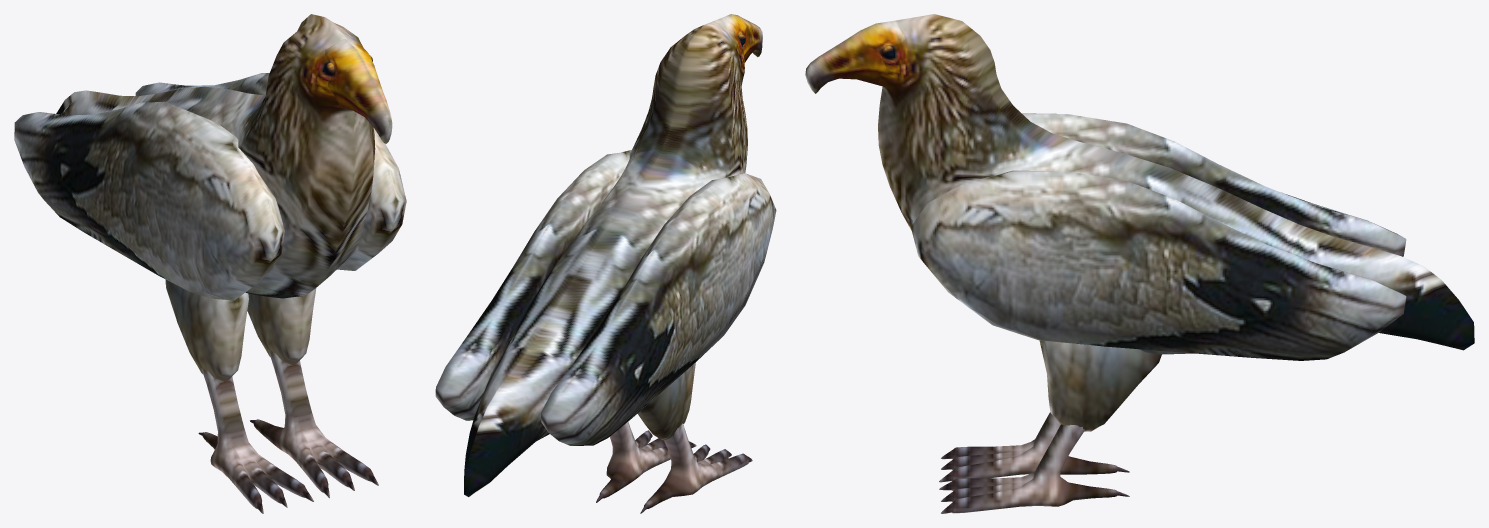
Rendered from abutre_do_egito.fbx.
The picture shows the model from 3 angles, left to right: view 1: azimuth 30°, elevation 25°; view 2: azimuth 150°, elevation 25°; view 3: azimuth 270°, elevation 25°; orthographic projection. The views are drawn at different scales.
Parts seen in each view (by area): view 1: Cube.004; view 2: Cube.004; view 3: Cube.004.
Boxes of the visible parts, box(x1,y1,x2,y2) form: Cube.004: box(14, 14, 406, 513); Cube.004: box(435, 14, 776, 513); Cube.004: box(805, 14, 1474, 513).
Size of the model in its own units: 134 by 326 by 418.
